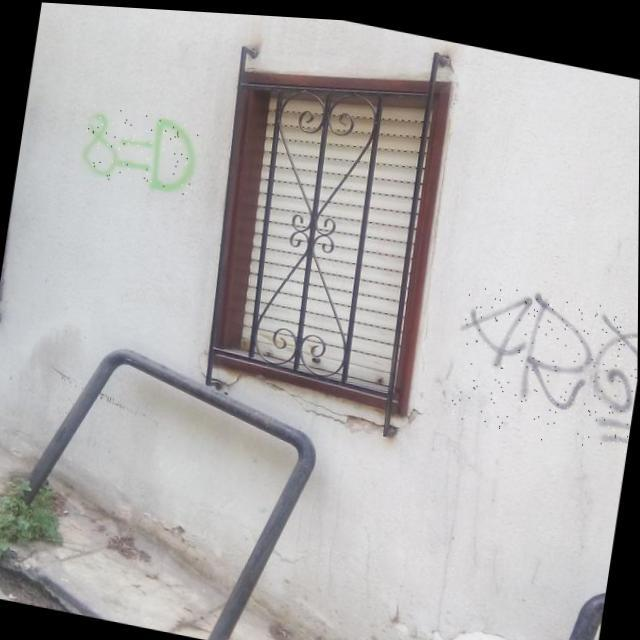-: (450, 272, 638, 450), (80, 102, 201, 194)
